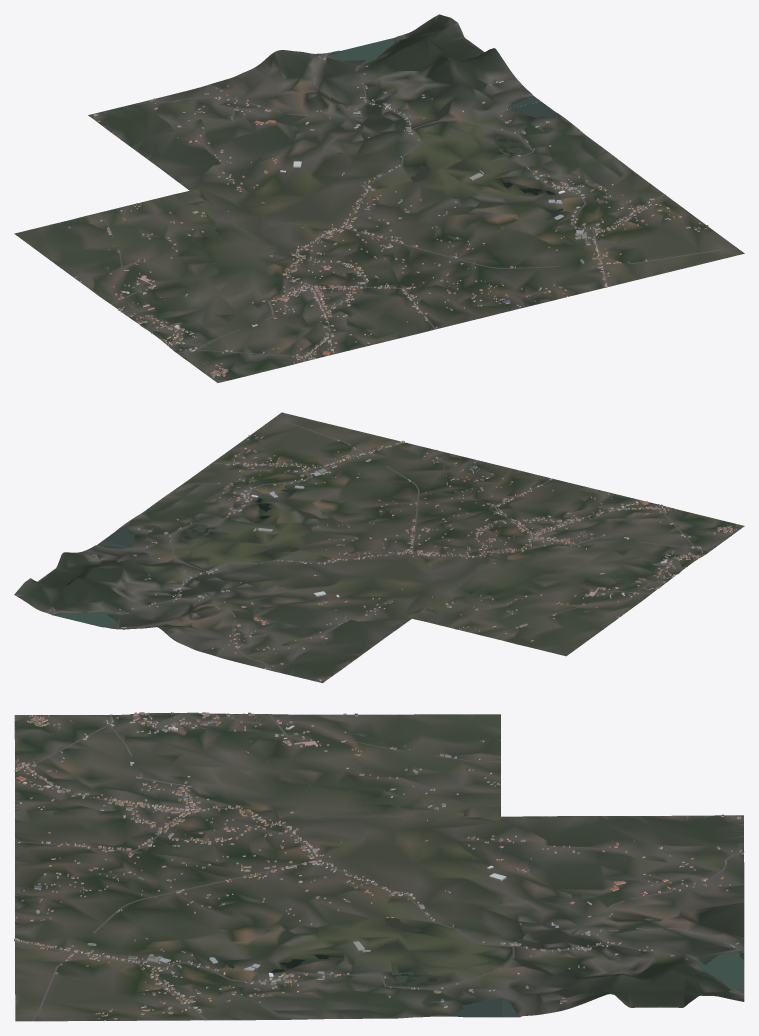
The picture shows the model from 3 angles, top to bottom: view 1: azimuth 30°, elevation 25°; view 2: azimuth 150°, elevation 25°; view 3: azimuth 270°, elevation 25°; orthographic projection. The views are drawn at different scales.
Parts seen in each view (by area): view 1: ground, buildings, roads, water; view 2: ground, buildings, roads, water; view 3: ground, buildings, roads, water.
Part boxes in pixels (box(x1,y1,x2,y2)): ground: box(14, 14, 744, 382); buildings: box(68, 56, 708, 377); roads: box(95, 60, 737, 359); water: box(121, 37, 563, 364); ground: box(14, 412, 744, 682); buildings: box(92, 434, 737, 681); roads: box(120, 416, 709, 669); water: box(53, 489, 716, 627); ground: box(14, 713, 744, 1021); buildings: box(14, 712, 743, 1021); roads: box(15, 712, 744, 1021); water: box(52, 714, 744, 1016).
Bounding box in the file's own units: 4206 × 185 × 4216.
